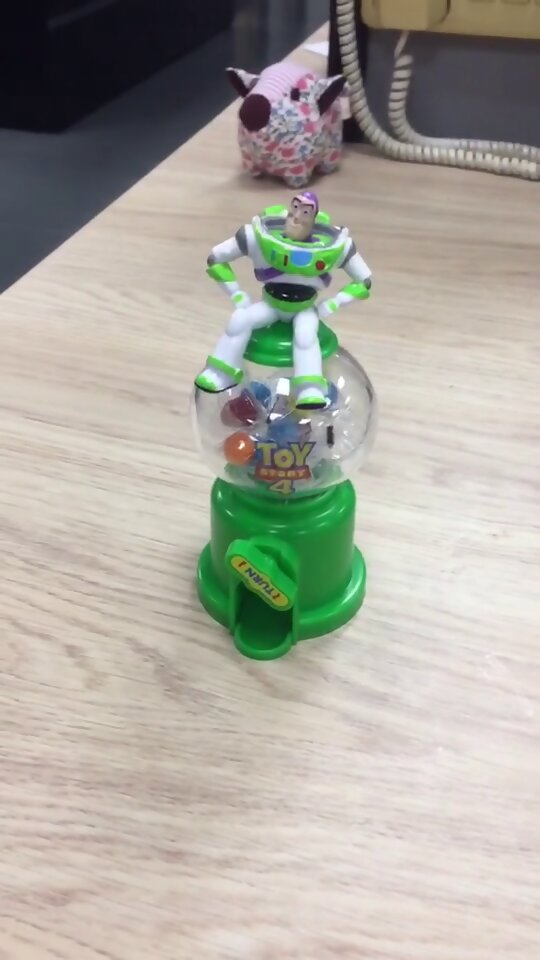buzz: (191, 189, 380, 661)
